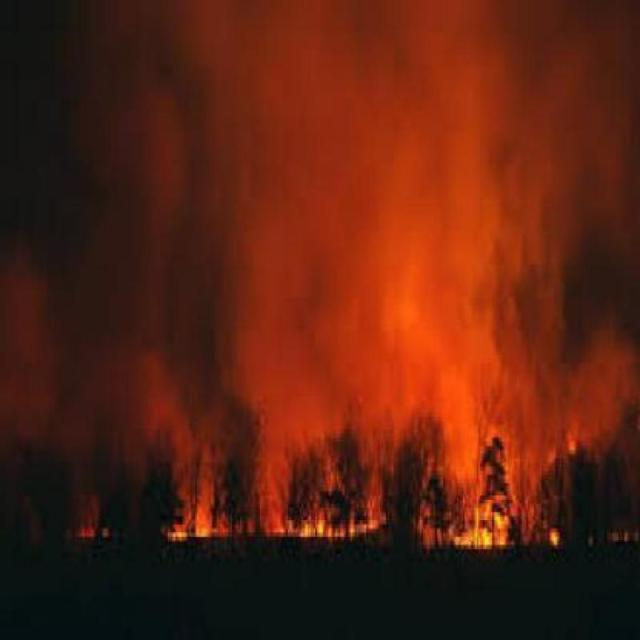Fire: (61, 462, 574, 542)
Smoke: (0, 0, 640, 405)
